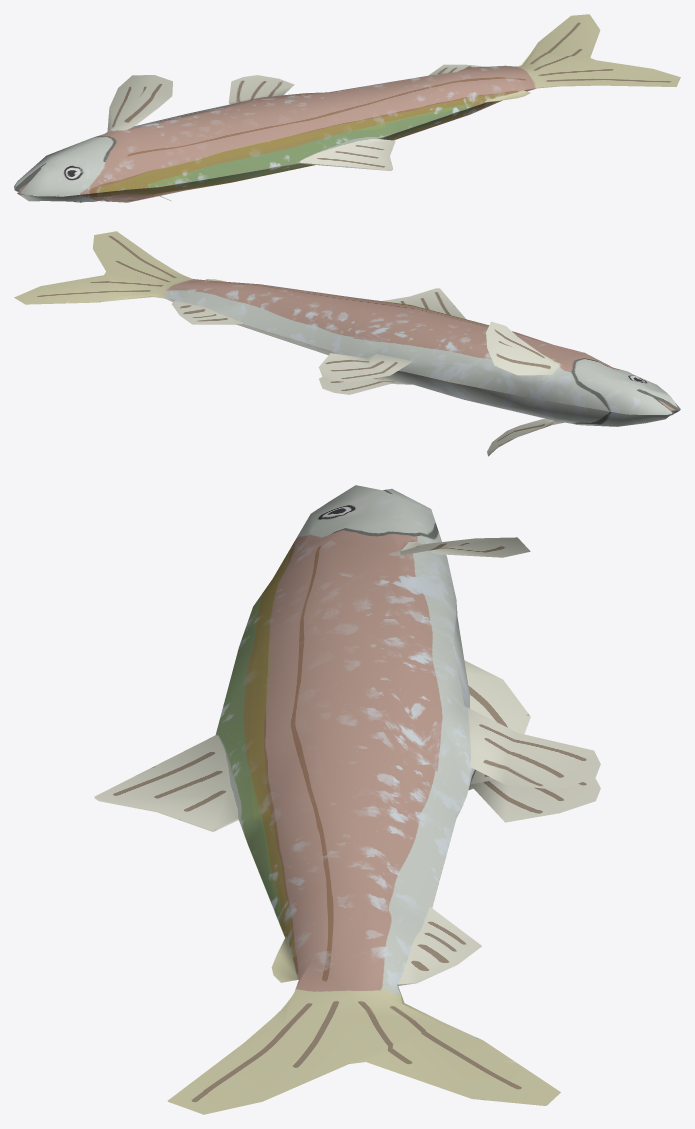
Rendered from arcticSmelt00.fbx.
3 renders of one model, top to bottom at view 1: azimuth 30°, elevation 25°; view 2: azimuth 150°, elevation 25°; view 3: azimuth 270°, elevation 25°, orthographic. The views are drawn at different scales.
Visible parts, largest first — view 1: arcticSmelt_final; view 2: arcticSmelt_final; view 3: arcticSmelt_final.
Boxes of the visible parts, x1=… form: arcticSmelt_final: x1=14, y1=14, x2=680, y2=202; arcticSmelt_final: x1=14, y1=231, x2=680, y2=456; arcticSmelt_final: x1=94, y1=485, x2=600, y2=1114.
Bounding box in the file's own units: 0.7423 × 0.1364 × 0.2611.
Materials: 1 (1 with a texture image).
